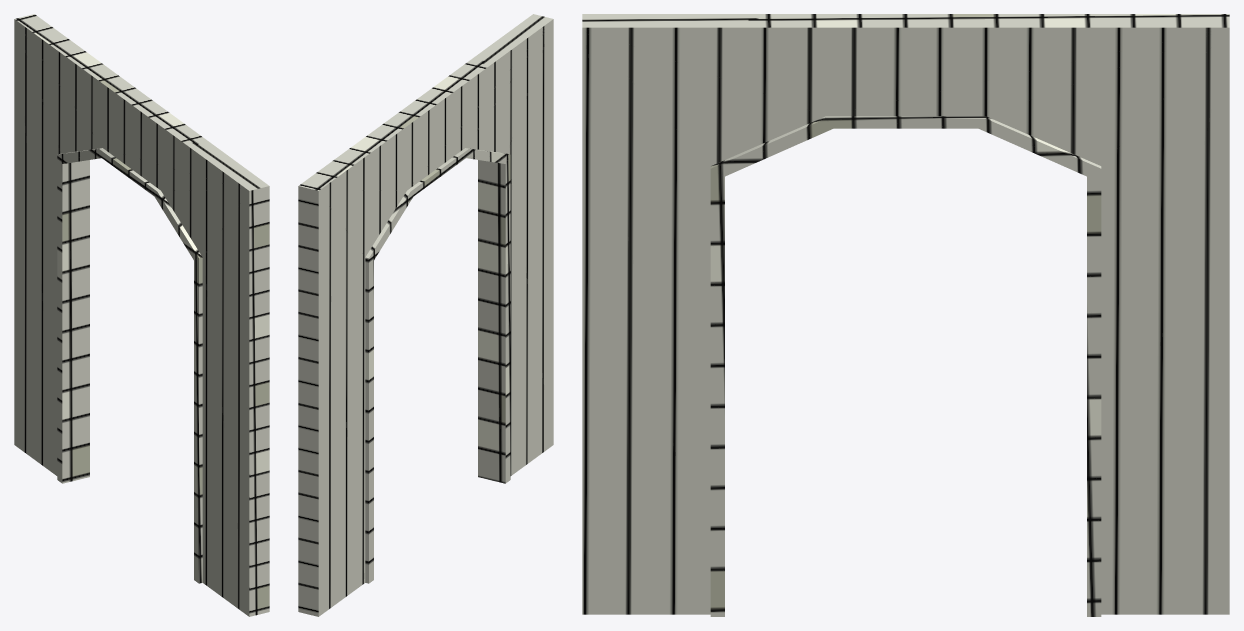
The model's file is TileWallDoor.fbx.
3 renders of one model, left to right at view 1: azimuth 30°, elevation 25°; view 2: azimuth 150°, elevation 25°; view 3: azimuth 270°, elevation 25°, orthographic. The views are drawn at different scales.
Parts seen in each view (by area): view 1: TileWallDoor; view 2: TileWallDoor; view 3: TileWallDoor.
Part boxes in pixels (x1,y1,x2,y2): TileWallDoor: (14,14,269,616); TileWallDoor: (298,14,553,616); TileWallDoor: (582,14,1229,616).
Size of the model in its own units: 67.93 by 1000 by 1000.
